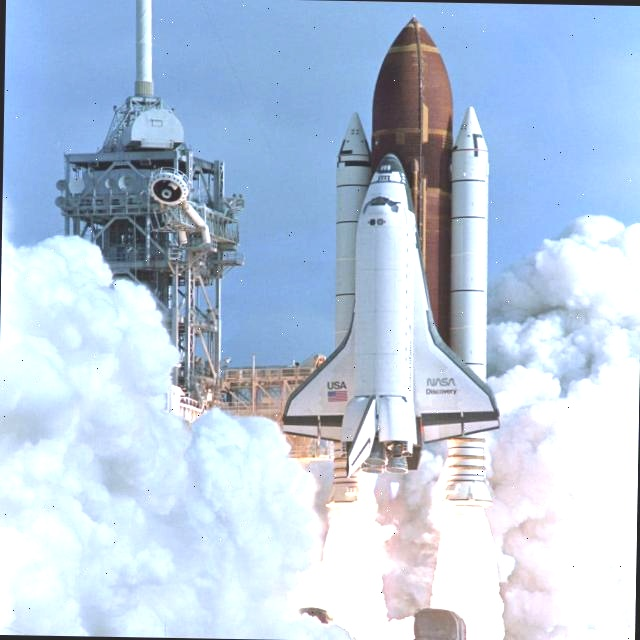rocket: (275, 146, 493, 459)
